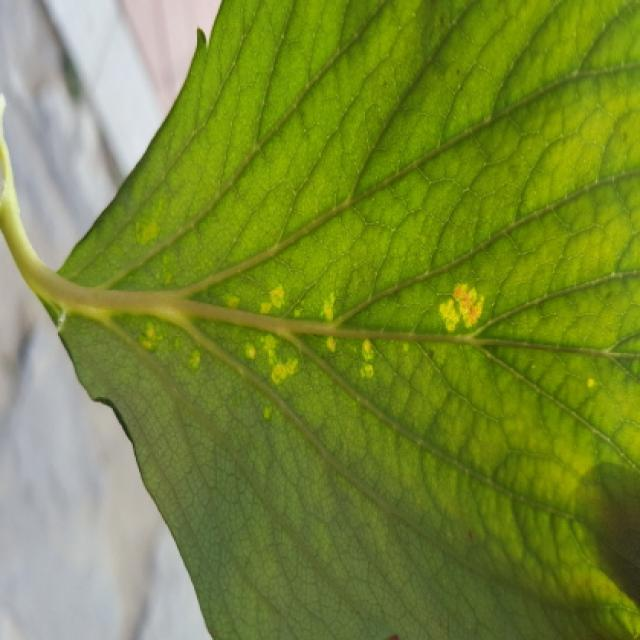Angular Leafspot: (119, 268, 603, 423)
